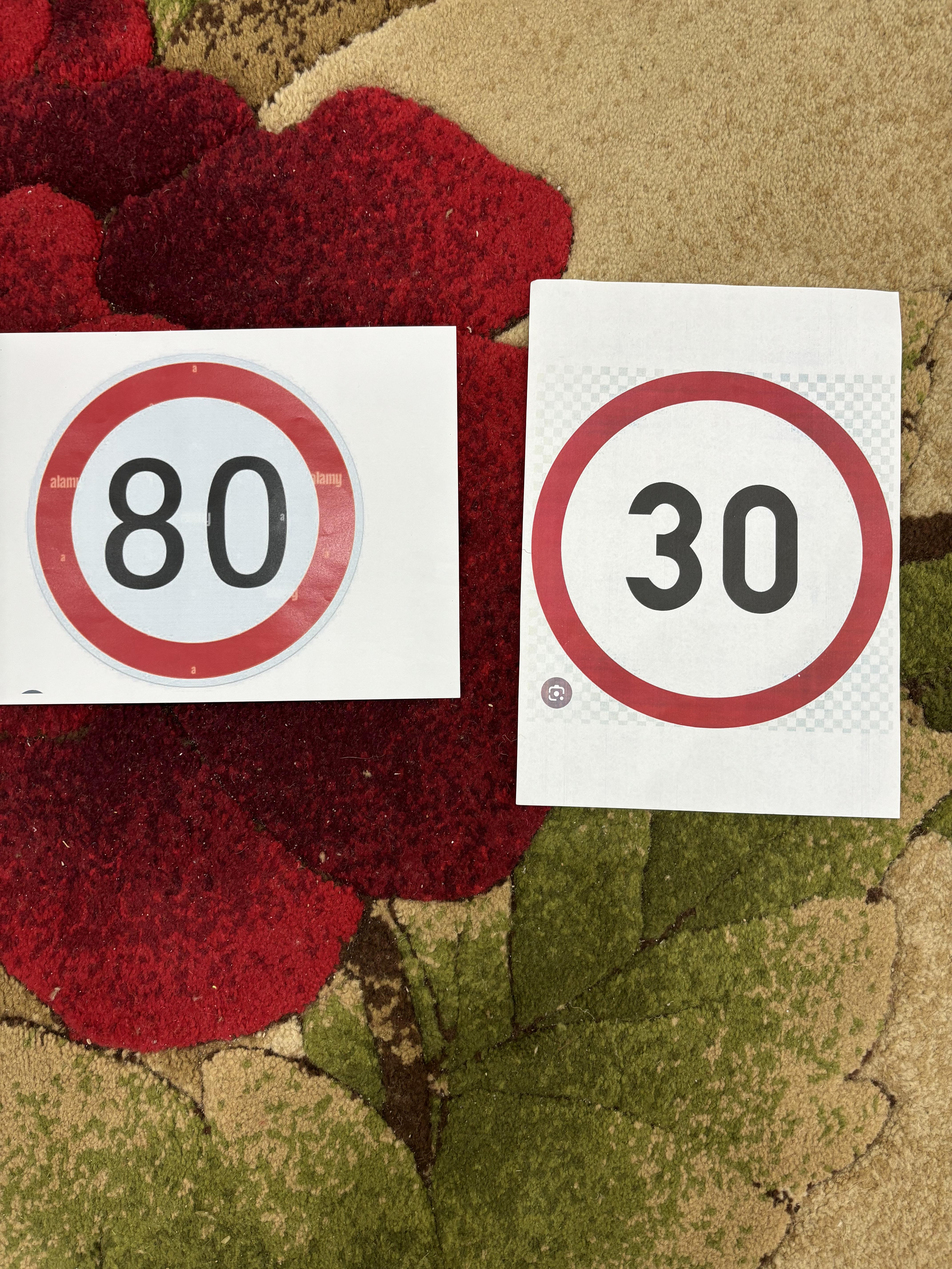30-speed: (529, 356, 896, 742)
80-Speed: (36, 354, 374, 689)
